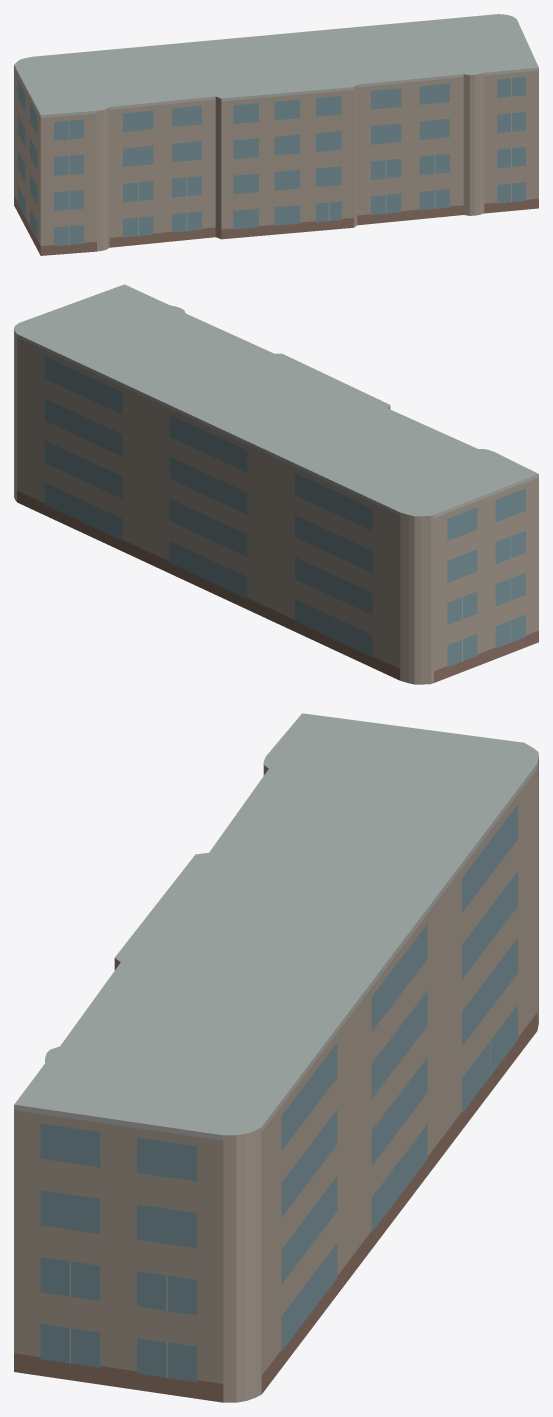
File: survey-upis-32532483.glb
3 renders of one model, top to bottom at view 1: azimuth 30°, elevation 25°; view 2: azimuth 150°, elevation 25°; view 3: azimuth 270°, elevation 25°, orthographic. The views are drawn at different scales.
Parts seen in each view (by area): view 1: survey-upis-32532483.tmp; view 2: survey-upis-32532483.tmp; view 3: survey-upis-32532483.tmp.
Boxes of the visible parts, x1,y1,x2,y2 form: survey-upis-32532483.tmp: (14,14,538,255); survey-upis-32532483.tmp: (14,284,538,684); survey-upis-32532483.tmp: (14,713,538,1402).
Bounding box in the file's own units: 41.33 × 12.2 × 21.72.
